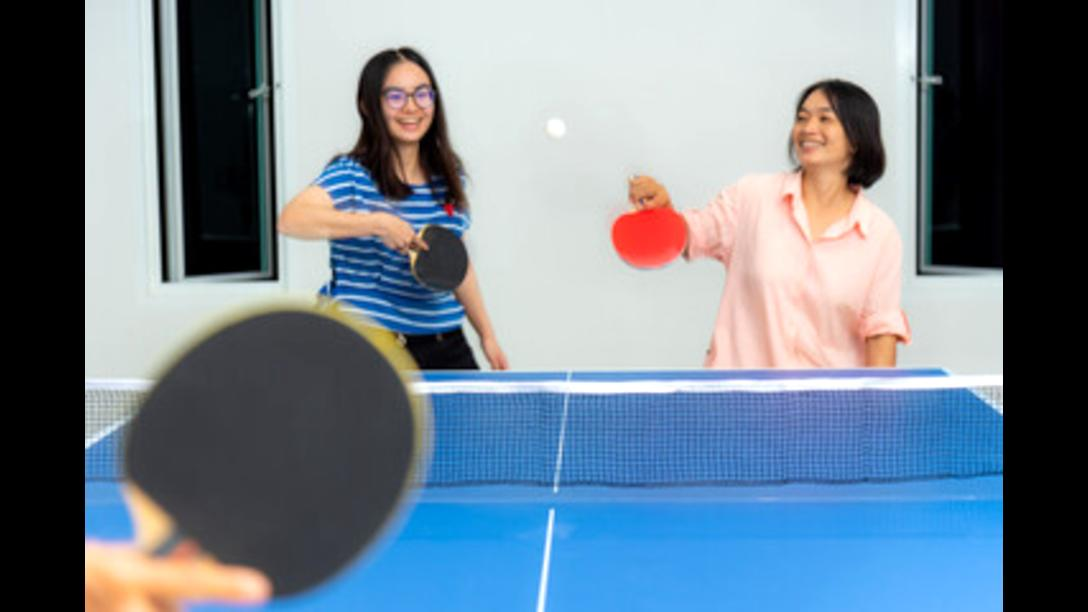Table-Tennis-Ball: (546, 118, 565, 138)
